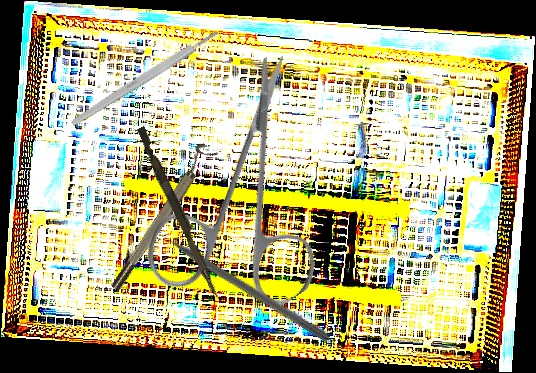Fixation Ring: (102, 140, 219, 294)
Iris Scissors: (88, 49, 397, 355)
Pusher: (145, 220, 333, 344), (132, 126, 226, 299)
Scalpel Handle: (69, 28, 221, 128)
